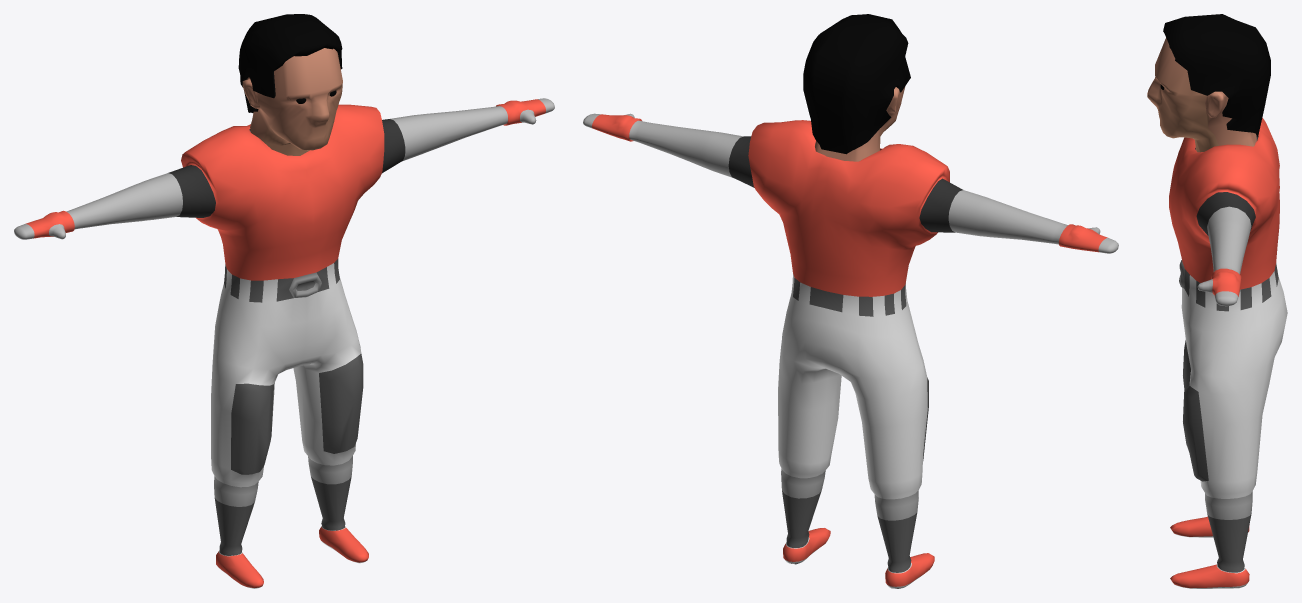
Rendered from Character_01.fbx.
3 renders of one model, left to right at view 1: azimuth 30°, elevation 25°; view 2: azimuth 150°, elevation 25°; view 3: azimuth 270°, elevation 25°, orthographic.
Parts seen in each view (by area): view 1: Man_01, Lowpoly, Hair; view 2: Man_01, Hair, Lowpoly; view 3: Man_01, Hair, Lowpoly.
Boxes of the visible parts, box(x1,y1,x2,y2) form: Man_01: box(14, 98, 554, 588); Lowpoly: box(242, 48, 342, 155); Hair: box(238, 14, 342, 112); Man_01: box(583, 113, 1118, 588); Hair: box(803, 14, 910, 154); Lowpoly: box(815, 86, 905, 161); Man_01: box(1169, 117, 1287, 588); Hair: box(1163, 14, 1270, 136); Lowpoly: box(1147, 37, 1256, 152).
Size of the model in its own units: 192 by 186 by 43.78.
